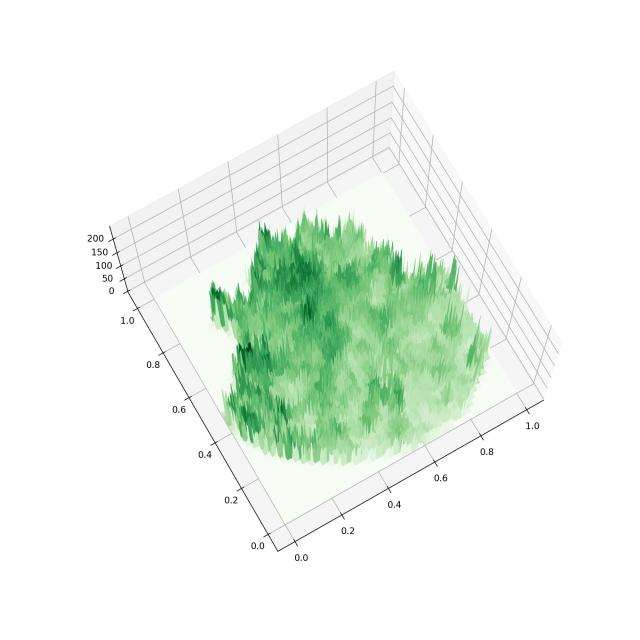spruce: (54, 53, 576, 584)
